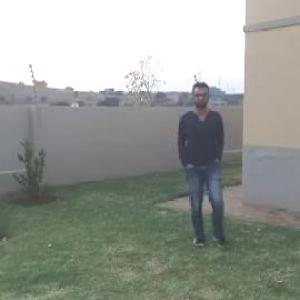follow: (177, 80, 230, 237)
